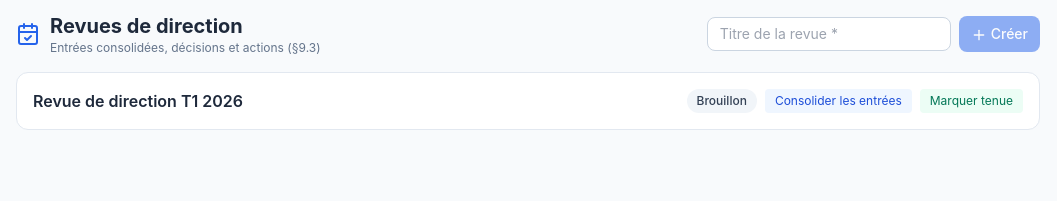
Test: Page Revues de direction (§9.3) › propage l erreur de tenue bloquée (409)
Expected: the text "Revue de direction T1 2026" is shown, top-left (33, 89), bottom-right (243, 113)
Click the button "Marquer tenue". click: click(971, 101)
box: top-left (920, 89), bottom-right (1023, 113)
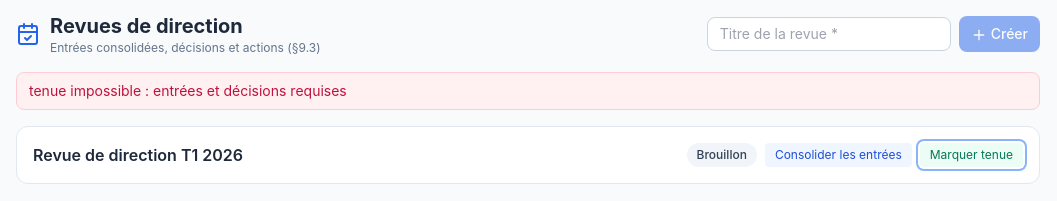
Expected: the text "tenue impossible : entrées et décisions requises" is shown, top-left (16, 72), bottom-right (1040, 110)
